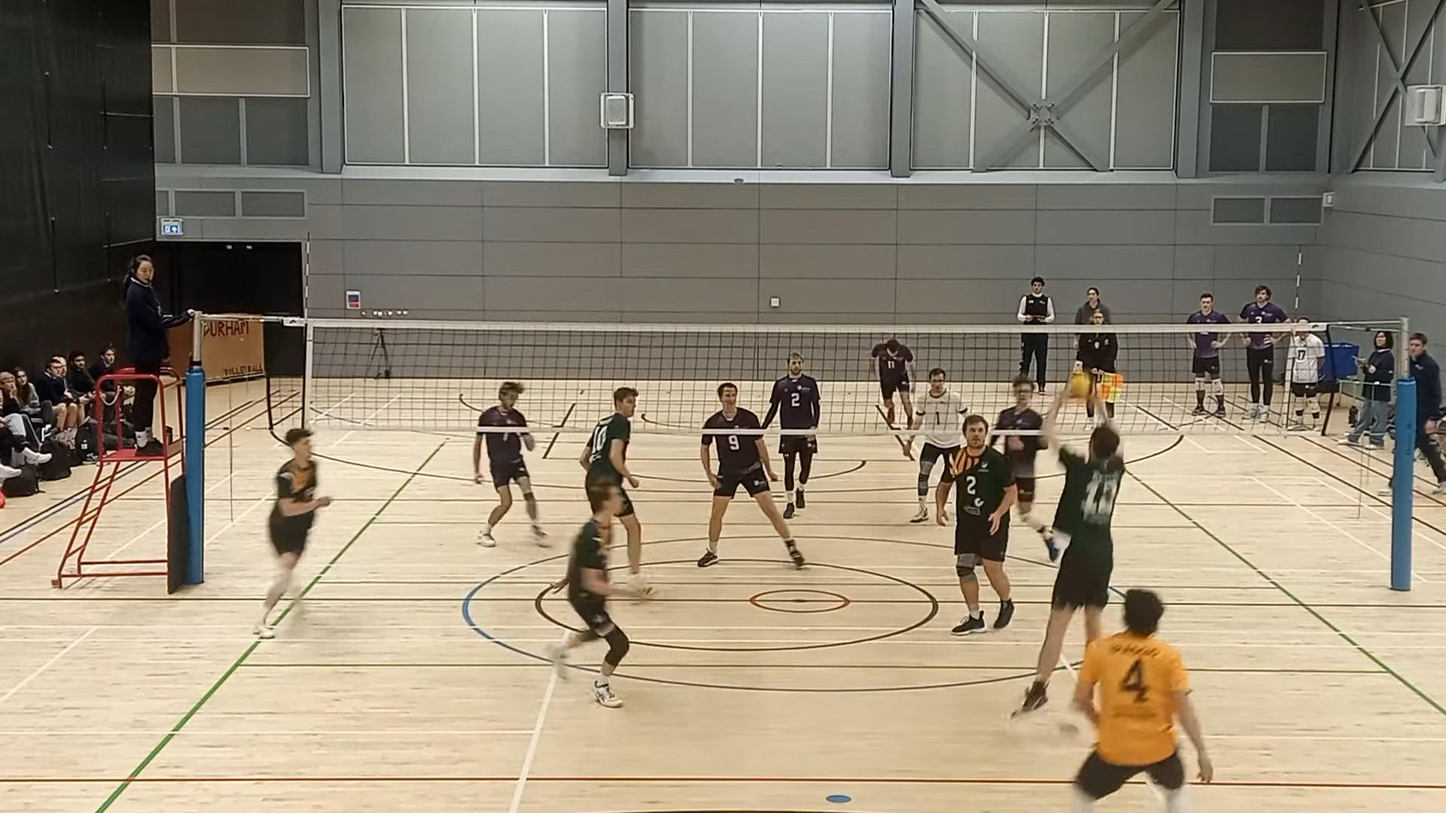Player: (1072, 589, 1213, 812), (550, 480, 651, 708), (697, 382, 805, 567), (935, 415, 1016, 635), (254, 428, 331, 638), (472, 381, 547, 547), (579, 387, 641, 583), (990, 376, 1048, 538), (910, 367, 967, 522), (763, 352, 820, 430), (871, 334, 914, 428)
Receive: (1002, 371, 1129, 725)
ball: (1063, 373, 1092, 399)
